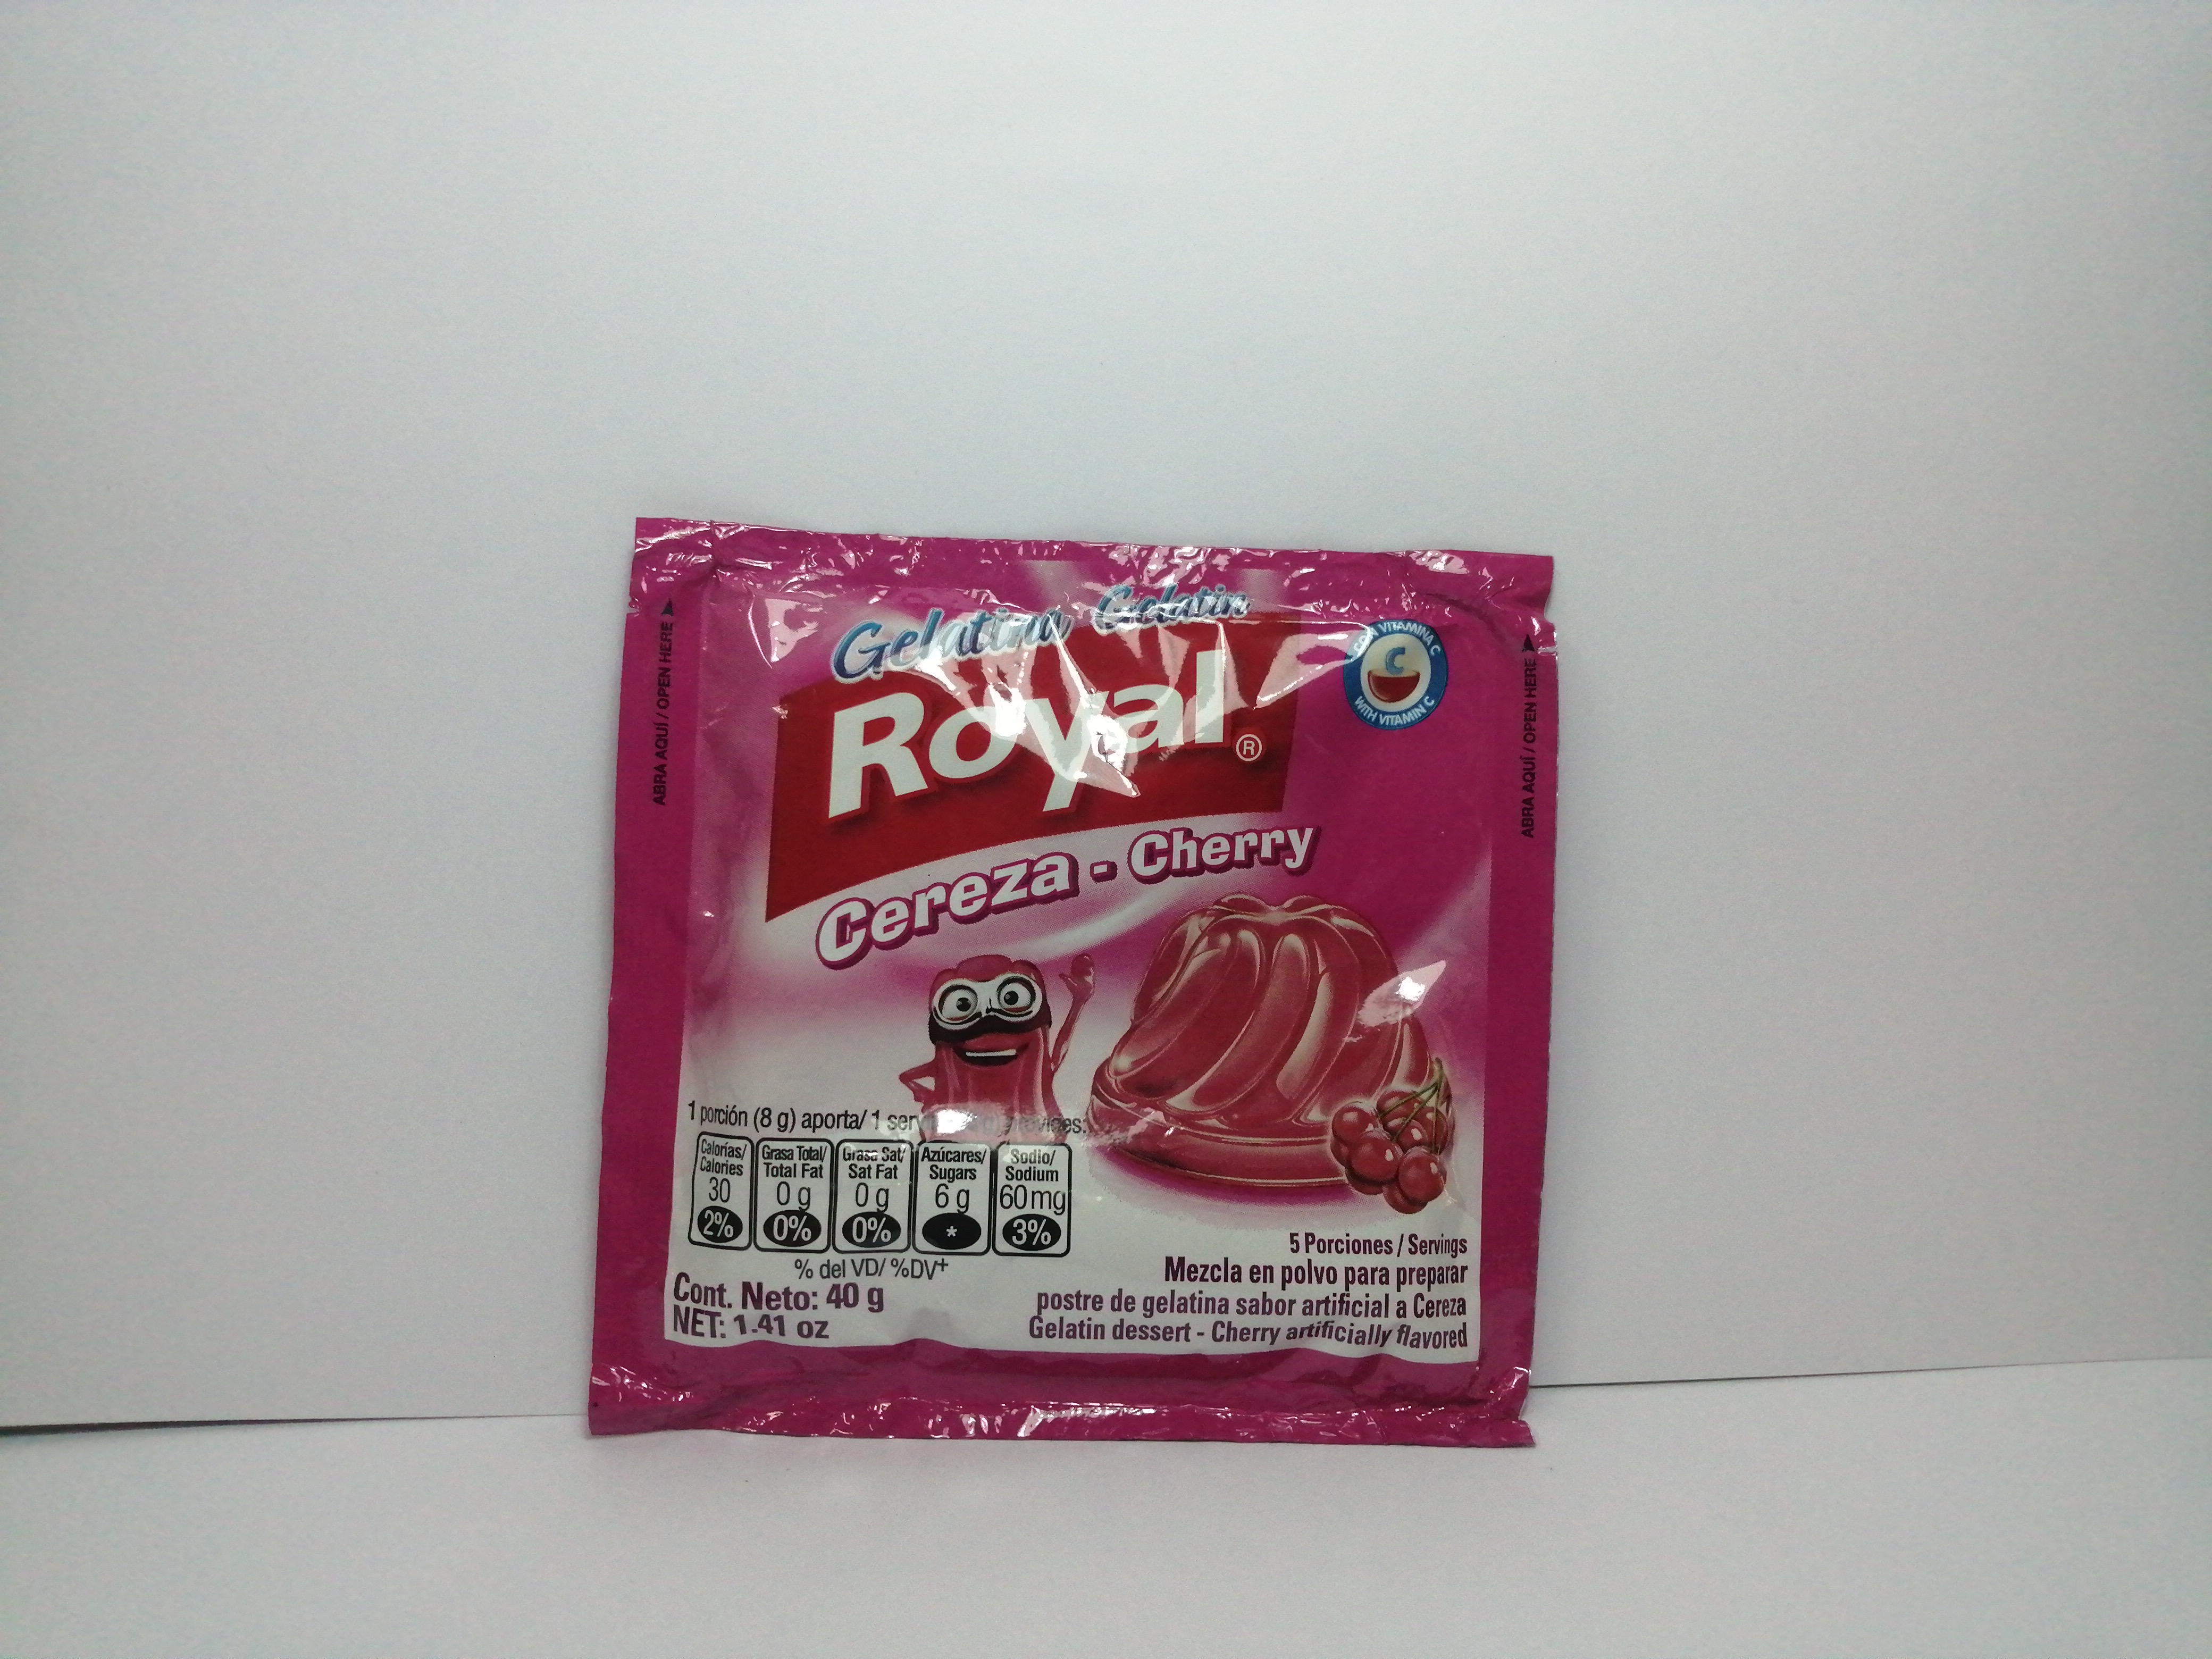gelatina: (594, 511, 1562, 1466)
